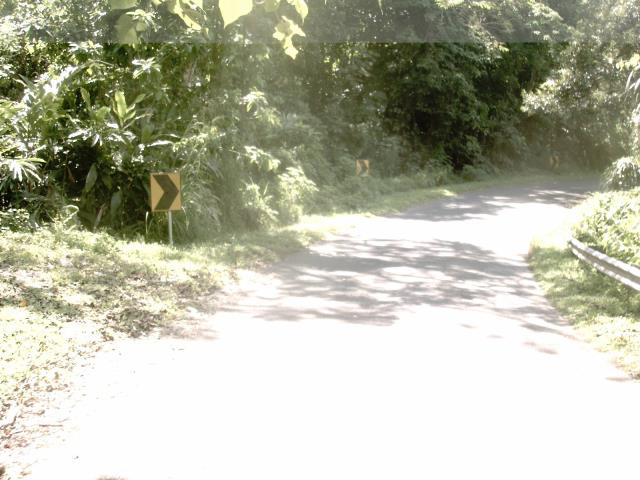traffic_sign: (141, 163, 189, 221)
